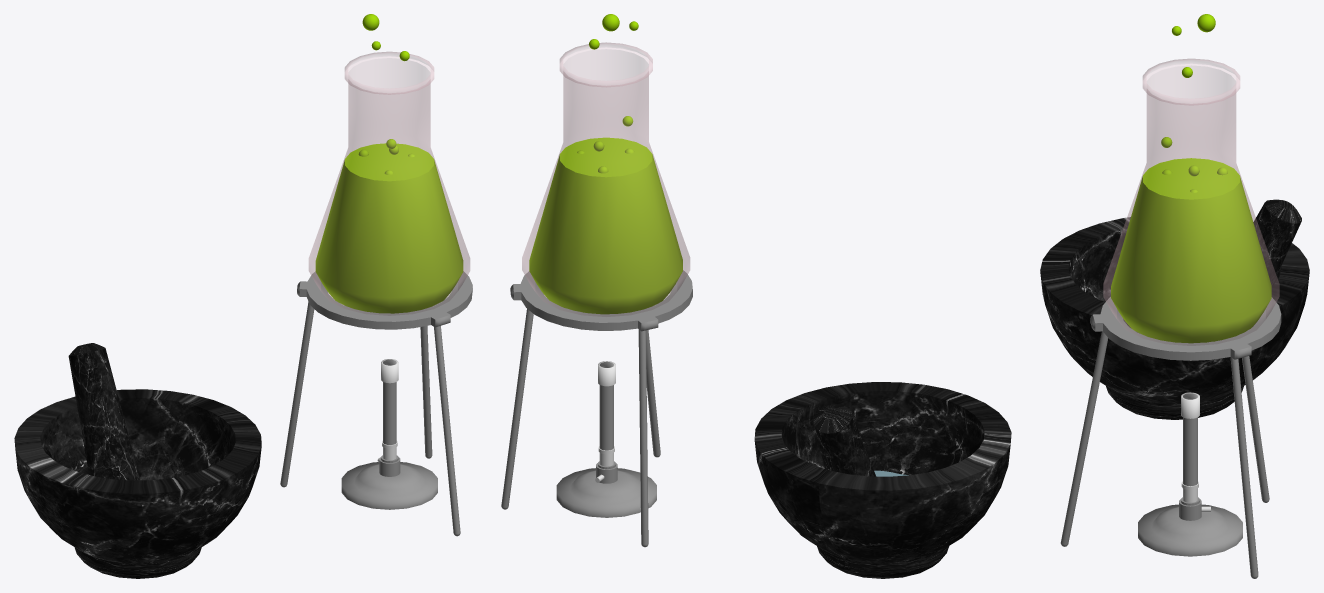
File: Chemistry.fbx
The picture shows the model from 3 angles, left to right: view 1: azimuth 30°, elevation 25°; view 2: azimuth 150°, elevation 25°; view 3: azimuth 270°, elevation 25°; orthographic projection. The views are drawn at different scales.
Parts seen in each view (by area): view 1: Sphere001, Cylinder003, Object001, Circle001, Object, Cylinder004; view 2: Sphere001, Cylinder003, Object001, Circle001, Cylinder004, Object; view 3: Cylinder003, Object001, Sphere001, Circle001, Cylinder004, Object.
Boxes of the visible parts, <box> form: Sphere001: <box>14,389,261,578</box>; Cylinder003: <box>308,51,470,315</box>; Object001: <box>315,143,463,313</box>; Circle001: <box>280,271,472,536</box>; Object: <box>68,343,139,480</box>; Cylinder004: <box>341,359,437,509</box>; Sphere001: <box>754,382,1011,578</box>; Cylinder003: <box>522,42,690,316</box>; Object001: <box>529,137,682,314</box>; Circle001: <box>501,270,692,547</box>; Cylinder004: <box>556,361,656,517</box>; Object: <box>813,404,876,476</box>; Cylinder003: <box>1103,58,1279,345</box>; Object001: <box>1111,158,1271,343</box>; Sphere001: <box>1040,217,1309,419</box>; Circle001: <box>1060,297,1281,578</box>; Cylinder004: <box>1138,392,1242,556</box>; Object: <box>1253,199,1301,285</box>.
Bounding box in the file's own units: 41.13 × 42.99 × 20.16.
6 materials, 1 textured.
